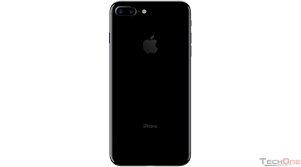iphone: (105, 1, 194, 165)
iphone7: (107, 1, 196, 167)
